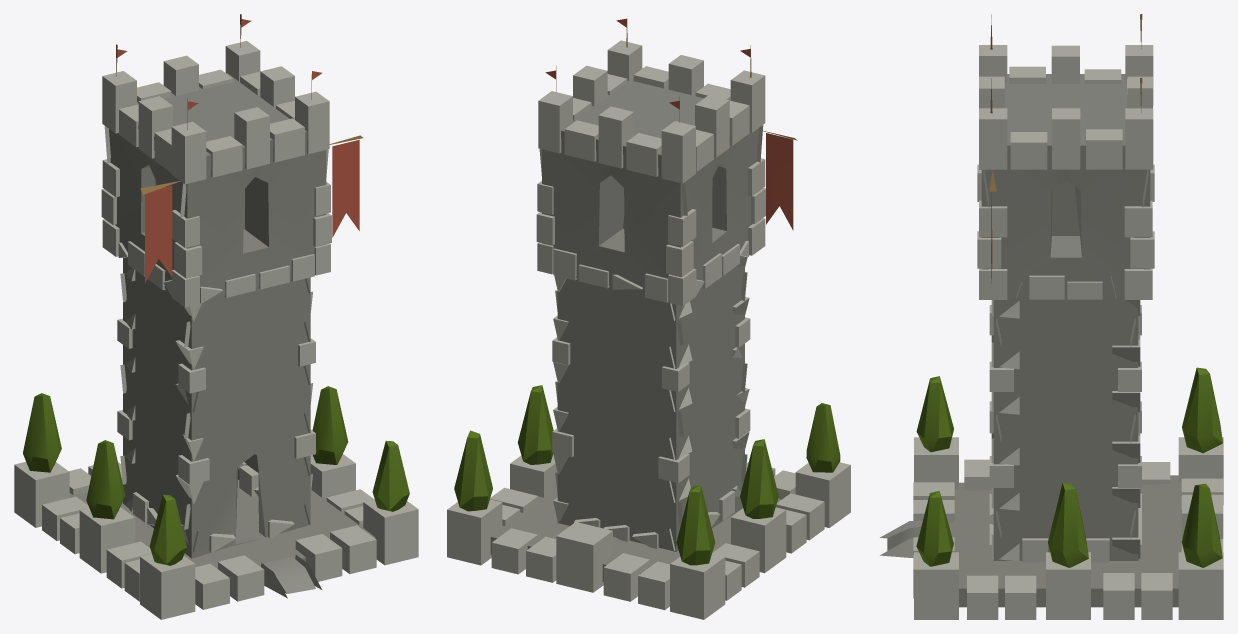
Rendered from WatchTower_SecondAge_Level3 LOD1.fbx.
The picture shows the model from 3 angles, left to right: view 1: azimuth 30°, elevation 25°; view 2: azimuth 150°, elevation 25°; view 3: azimuth 270°, elevation 25°; orthographic projection. The views are drawn at different scales.
Parts seen in each view (by area): view 1: WatchTower_SecondAge_Level3; view 2: WatchTower_SecondAge_Level3; view 3: WatchTower_SecondAge_Level3.
Boxes of the visible parts, bbox=[...] form: WatchTower_SecondAge_Level3: bbox=[14, 14, 418, 619]; WatchTower_SecondAge_Level3: bbox=[447, 18, 850, 619]; WatchTower_SecondAge_Level3: bbox=[880, 14, 1223, 619].
Size of the model in its own units: 81.49 by 145 by 89.41.
